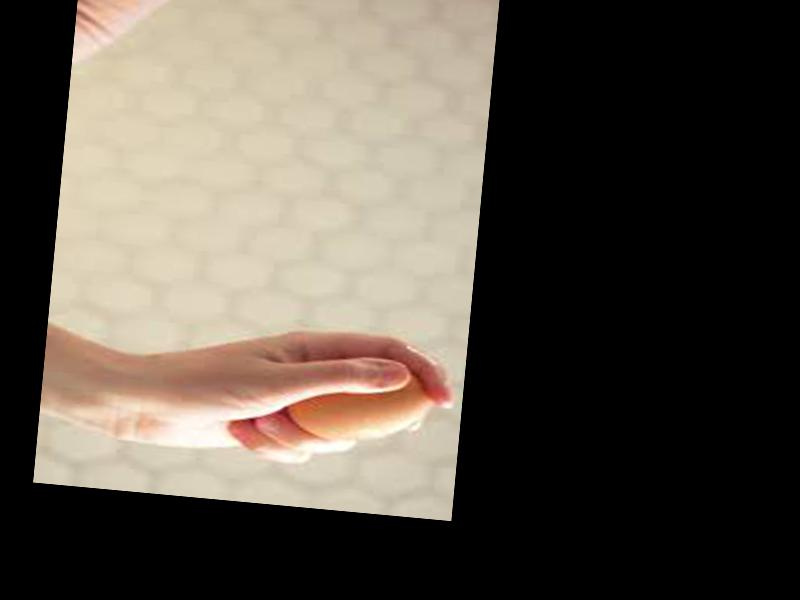Eggs: (285, 356, 432, 451)
